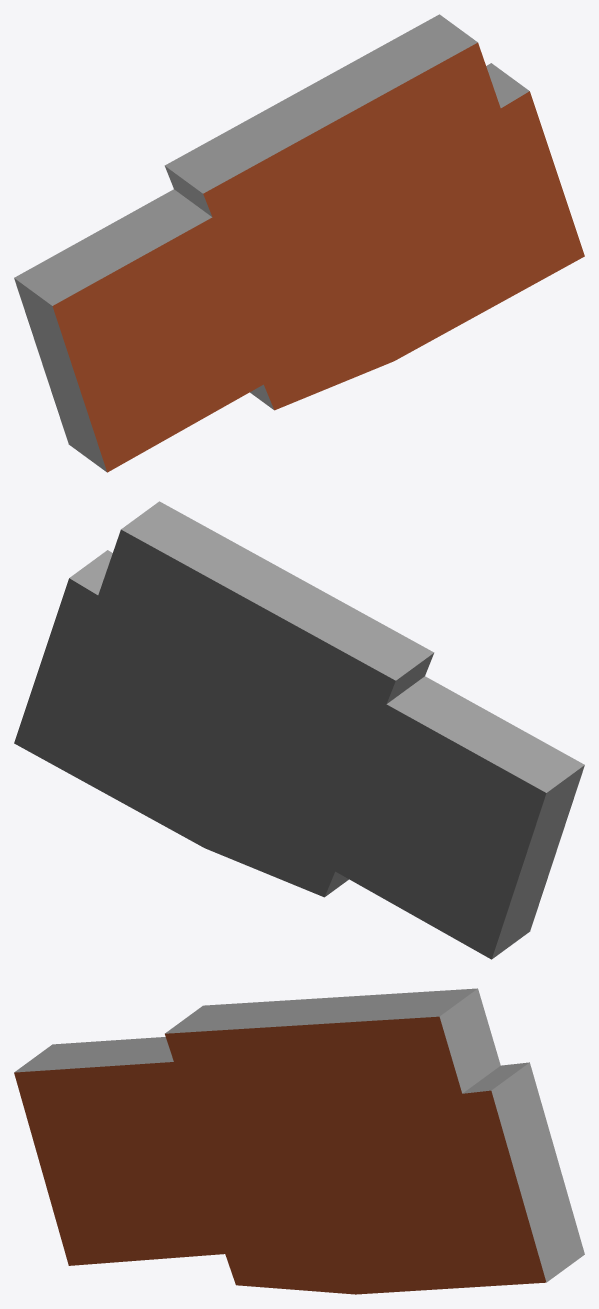
Rendered from construction_0989_assumed_A_Casa_h6m.obj.
3 renders of one model, top to bottom at view 1: azimuth 30°, elevation 25°; view 2: azimuth 150°, elevation 25°; view 3: azimuth 330°, elevation 25°, orthographic.
Visible parts, largest first — view 1: construction_0989_assumed_A_Casa; view 2: construction_0989_assumed_A_Casa; view 3: construction_0989_assumed_A_Casa.
Part boxes in pixels (x1=…): construction_0989_assumed_A_Casa: x1=14, y1=14, x2=584, y2=472; construction_0989_assumed_A_Casa: x1=14, y1=501, x2=584, y2=959; construction_0989_assumed_A_Casa: x1=14, y1=988, x2=584, y2=1294.
Bounding box in the file's own units: 47.92 × 29.22 × 6.
